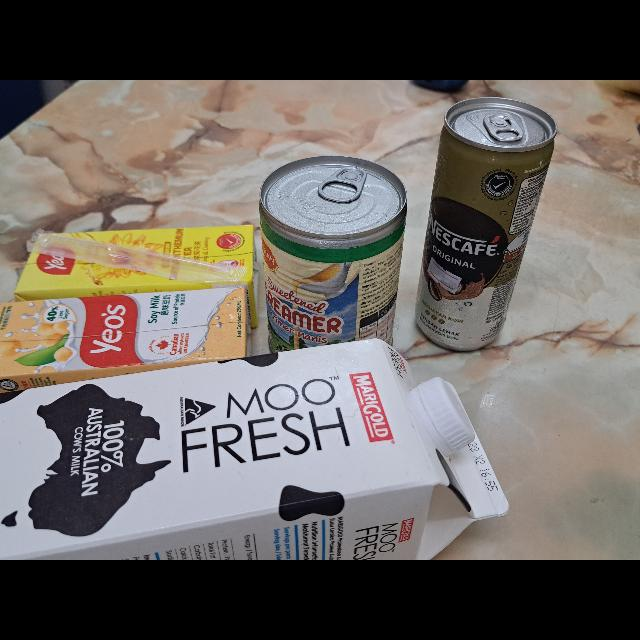aba de lata: (318, 166, 368, 204), (484, 114, 524, 142)
caixinha: (1, 338, 512, 560), (1, 286, 256, 394), (17, 223, 260, 301)
lata: (415, 98, 559, 352), (258, 155, 408, 355)
tampa plástica: (418, 376, 476, 454)
